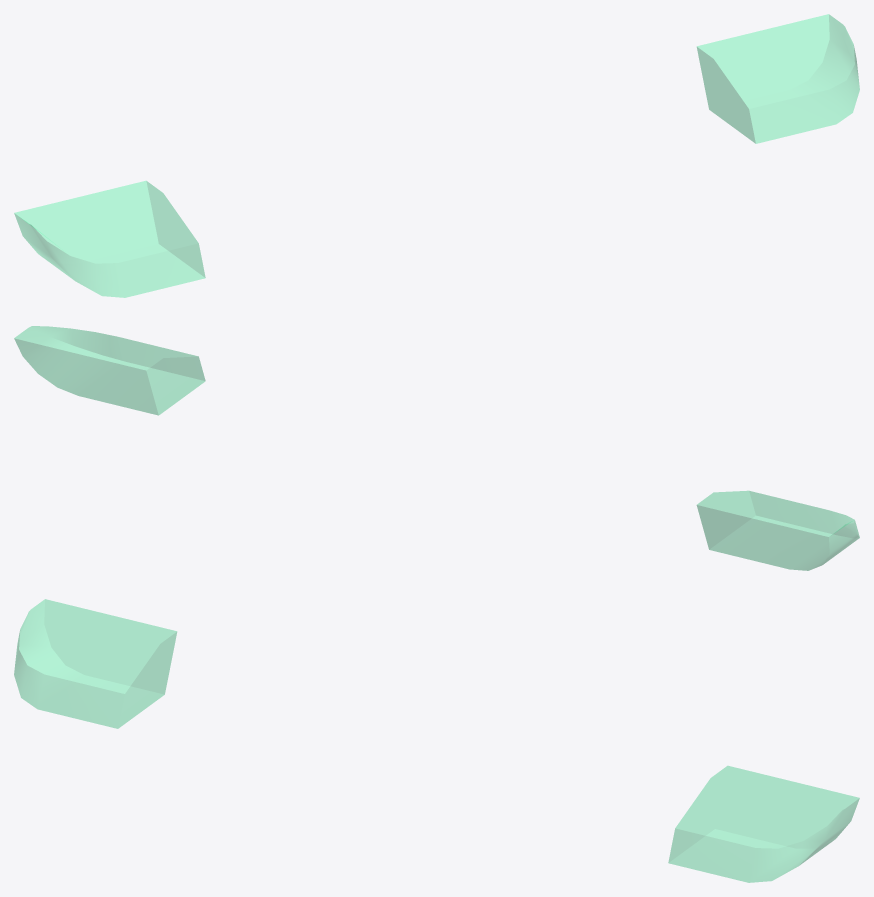
File: acc_eyeline_green.glb
3 views of the same model, one above another, from view 1: azimuth 30°, elevation 25°; view 2: azimuth 150°, elevation 25°; view 3: azimuth 330°, elevation 25° (orthographic).
Visible parts, largest first — view 1: acc_eyeline_green_mesh; view 2: acc_eyeline_green_mesh; view 3: acc_eyeline_green_mesh.
Boxes of the visible parts, box(x1,y1,x2,y2) form: acc_eyeline_green_mesh: box(14, 14, 859, 297); acc_eyeline_green_mesh: box(14, 326, 859, 570); acc_eyeline_green_mesh: box(14, 599, 859, 882).
Bounding box in the file's own units: 1.75 × 0.1115 × 0.2217.
